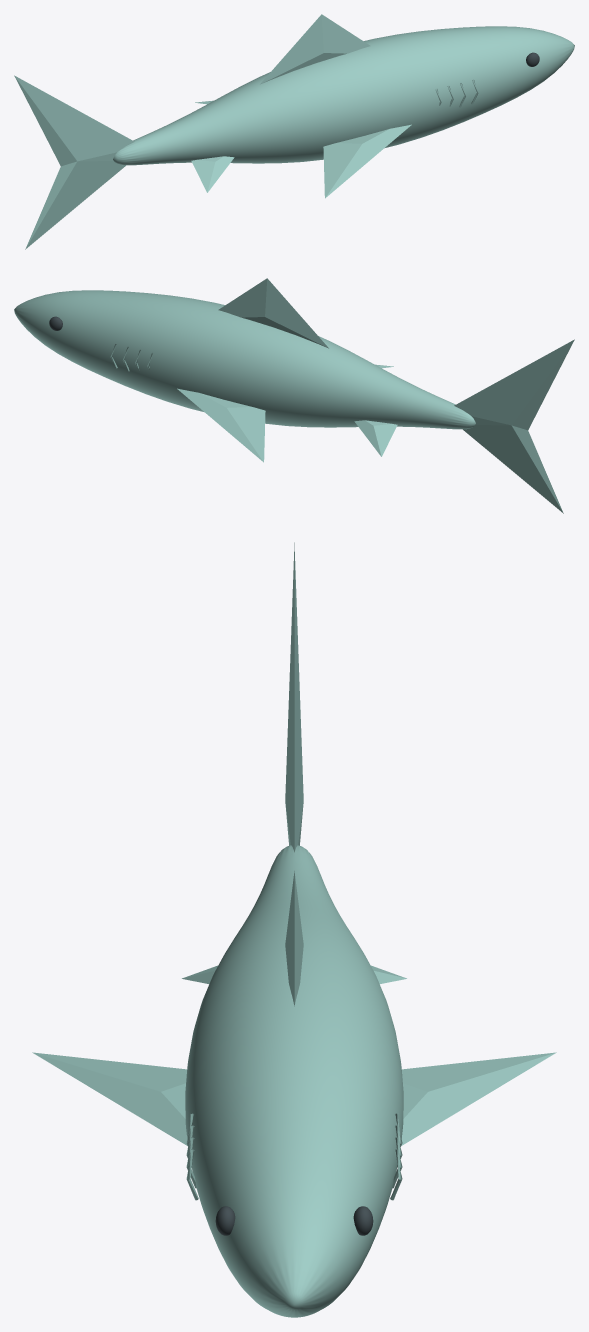
The picture shows the model from 3 angles, top to bottom: view 1: azimuth 30°, elevation 25°; view 2: azimuth 150°, elevation 25°; view 3: azimuth 270°, elevation 25°; orthographic projection. The views are drawn at different scales.
Visible parts, largest first — view 1: Body, Tail, Dorsal, Pectoral, Pelvic; view 2: Body, Tail, Dorsal, Pectoral.001, Pelvic.001; view 3: Body, Pectoral, Pectoral.001, Tail, Dorsal.
Boxes of the visible parts, <box> form: Body: <box>113,26,574,165</box>; Tail: <box>14,75,134,249</box>; Dorsal: <box>260,14,370,84</box>; Pectoral: <box>323,124,411,198</box>; Pelvic: <box>191,156,234,192</box>; Body: <box>14,290,475,429</box>; Tail: <box>454,339,574,513</box>; Dorsal: <box>218,278,328,348</box>; Pectoral.001: <box>177,388,265,462</box>; Pelvic.001: <box>354,420,397,456</box>; Body: <box>185,845,403,1317</box>; Pectoral: <box>32,1052,187,1145</box>; Pectoral.001: <box>401,1052,556,1145</box>; Tail: <box>285,542,303,852</box>; Dorsal: <box>285,871,303,1006</box>.
Bounding box in the file's own units: 252 × 76 × 102.
